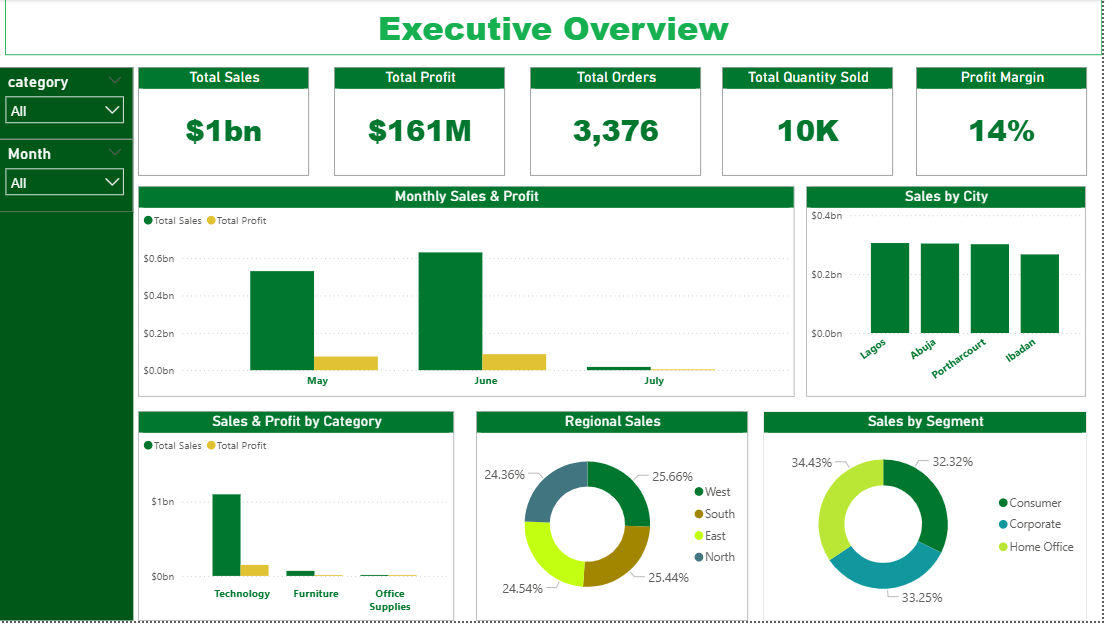

The dashboard page shown, as its layout file describes it:
{"tool":"powerbi","page":{"name":"Executive Overview","canvas":[1280,720],"ordinal":0},"visuals":[{"type":"textbox","box":[10.4,0,1269.8,64.8],"z":0},{"type":"group","id":"g1","title":"Group 1","box":[164.4,78.7,1098.5,126.2],"z":1000},{"type":"card","title":"Total Sales","fields":{"Values":["sales_db sales.Total Sales"]},"box":[164.4,78.7,198.2,126.2],"z":1000,"group":"g1"},{"type":"card","title":"Total Profit","fields":{"Values":["sales_db sales.Total Profit"]},"box":[391.7,78.7,198.2,126.2],"z":2000,"group":"g1"},{"type":"clusteredColumnChart","title":"Monthly Sales & Profit","fields":{"Category":["sales_db sales.order_date.Variation.Date Hierarchy.Month"],"Y":["sales_db sales.Total Sales","sales_db sales.Total Profit"]},"box":[164.5,215.9,759.5,244.2],"z":2000},{"type":"card","title":"Total Orders","fields":{"Values":["sales_db sales.Total orders"]},"box":[617.7,78.7,198.2,126.2],"z":3000,"group":"g1"},{"type":"clusteredColumnChart","title":"Sales & Profit by Category","fields":{"Category":["sales_db sales.category"],"Y":["sales_db sales.Total Sales","sales_db sales.Total Profit"]},"box":[164.5,476.8,366.3,242.9],"z":3000},{"type":"card","title":"Total Quantity Sold","fields":{"Values":["sales_db sales.Total quantity"]},"box":[839.9,78.7,198.2,126.2],"z":4000,"group":"g1"},{"type":"donutChart","title":"Sales by Segment","fields":{"Y":["sales_db sales.Total Sales"],"Series":["sales_db sales.segment"]},"box":[888,476.8,375.3,242.9],"z":4000},{"type":"slicer","fields":{"Values":["sales_db sales.category"]},"box":[0,78.4,159.4,83.5],"z":5000},{"type":"card","title":"Profit Margin","fields":{"Values":["sales_db sales.% Profit"]},"box":[1064.7,78.7,198.2,126.2],"z":5000,"group":"g1"},{"type":"slicer","fields":{"Values":["sales_db sales.order_date.Variation.Date Hierarchy.Month"]},"box":[0,161.9,159.4,84.8],"z":6000},{"type":"donutChart","title":"Regional Sales","fields":{"Y":["sales_db sales.Total Sales"],"Category":["sales_db sales.region"]},"box":[555.2,476.8,314.9,242.9],"z":7000},{"type":"clusteredColumnChart","title":"Sales by City","fields":{"Category":["sales_db sales.city"],"Y":["sales_db sales.Total Sales"]},"box":[938.2,215.9,323.9,244.2],"z":8000},{"type":"shape","box":[0,246.7,159.4,472.9],"z":9000}]}

Visuals, with their boxes in screenshot pixels (x1, y1, x2, y2), scaled from the page's 1280x720 canvas onto the 1105x626 screenshot:
textbox: bbox(9, 0, 1104, 56)
"Group 1" group: bbox(142, 68, 1090, 178)
"Total Sales" card: bbox(142, 68, 313, 178)
"Total Profit" card: bbox(338, 68, 509, 178)
"Monthly Sales & Profit" clusteredColumnChart: bbox(142, 188, 798, 400)
"Total Orders" card: bbox(533, 68, 704, 178)
"Sales & Profit by Category" clusteredColumnChart: bbox(142, 415, 458, 625)
"Total Quantity Sold" card: bbox(725, 68, 896, 178)
"Sales by Segment" donutChart: bbox(767, 415, 1091, 625)
slicer - sales_db sales.category: bbox(0, 68, 138, 141)
"Profit Margin" card: bbox(919, 68, 1090, 178)
slicer - sales_db sales.order_date.Variation.Date Hierarchy.Month: bbox(0, 141, 138, 214)
"Regional Sales" donutChart: bbox(479, 415, 751, 625)
"Sales by City" clusteredColumnChart: bbox(810, 188, 1090, 400)
shape: bbox(0, 214, 138, 625)
